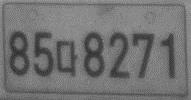1: (159, 31, 177, 79)
2: (108, 31, 132, 80)
5: (32, 31, 54, 76)
7: (130, 31, 154, 80)
8: (82, 31, 106, 78), (8, 30, 30, 75)
다: (55, 39, 78, 78)
